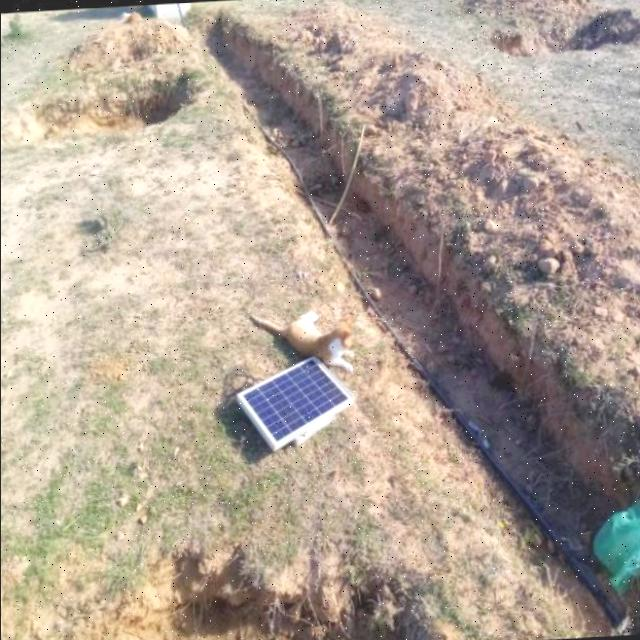Normal Solar Panel: (235, 352, 358, 446)
